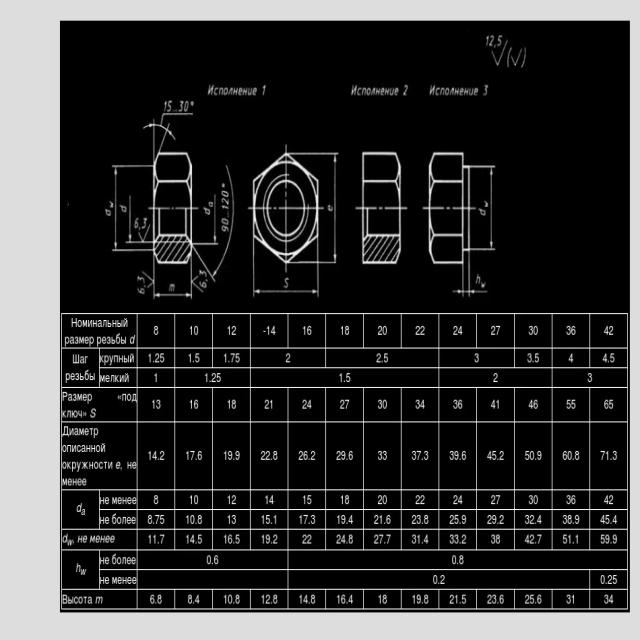marking_line: (193, 165, 235, 283), (111, 164, 153, 252), (319, 152, 340, 264), (253, 264, 320, 299), (471, 165, 495, 252), (152, 265, 193, 300), (125, 195, 153, 245), (194, 194, 218, 246), (452, 265, 489, 298), (144, 117, 176, 152)
numeric: (141, 215, 148, 229), (169, 281, 176, 293), (489, 33, 495, 47), (483, 83, 489, 96), (497, 34, 503, 47), (178, 101, 184, 113), (137, 287, 145, 296), (119, 204, 127, 213), (202, 206, 210, 215), (475, 272, 481, 284), (534, 352, 540, 364), (452, 324, 458, 336), (203, 372, 209, 384), (586, 373, 593, 383), (271, 323, 276, 337), (376, 352, 382, 363), (285, 352, 291, 363), (231, 324, 237, 335), (493, 372, 499, 383), (160, 449, 166, 460), (273, 450, 279, 461), (341, 449, 347, 460), (492, 450, 498, 461), (499, 450, 505, 461), (414, 494, 420, 505), (420, 494, 426, 505), (452, 494, 458, 505), (609, 494, 615, 505), (154, 514, 160, 525), (160, 534, 166, 545), (432, 574, 438, 585), (157, 594, 163, 605), (448, 594, 454, 605), (486, 593, 492, 604), (222, 190, 230, 198), (199, 269, 207, 277), (199, 281, 207, 289), (137, 275, 145, 283), (478, 208, 486, 216), (134, 217, 139, 229), (284, 277, 289, 289), (382, 325, 388, 335), (223, 351, 228, 363), (474, 351, 479, 363), (231, 399, 237, 409), (533, 400, 539, 410), (227, 450, 233, 460), (235, 451, 241, 461), (298, 451, 304, 461), (416, 451, 422, 461), (567, 450, 573, 460), (194, 494, 199, 506), (231, 495, 237, 505), (382, 495, 388, 505), (599, 514, 605, 524), (574, 514, 580, 524), (536, 515, 542, 525), (524, 515, 530, 525), (461, 514, 467, 524), (449, 515, 455, 525), (310, 515, 316, 525), (231, 514, 237, 524), (190, 534, 196, 544), (266, 534, 272, 544), (273, 534, 279, 544), (348, 534, 354, 544), (378, 534, 384, 544), (149, 594, 155, 604), (187, 594, 193, 604), (423, 594, 429, 604), (461, 594, 467, 604), (222, 197, 229, 205), (221, 225, 229, 232), (167, 101, 172, 112), (184, 101, 189, 112), (491, 325, 496, 336), (459, 325, 464, 336), (345, 325, 350, 336), (384, 352, 389, 363), (154, 325, 159, 336), (195, 352, 200, 363), (346, 372, 351, 383), (311, 450, 316, 461), (424, 450, 429, 461), (462, 450, 467, 461), (600, 450, 605, 461), (154, 495, 159, 506), (189, 495, 194, 506), (264, 494, 269, 505), (307, 494, 312, 505), (345, 494, 350, 505), (613, 514, 618, 525), (606, 514, 611, 525), (567, 514, 572, 525), (530, 514, 535, 525), (499, 514, 504, 525), (190, 514, 195, 525), (214, 554, 219, 565), (562, 533, 567, 544), (440, 574, 445, 585), (303, 594, 308, 605), (485, 35, 490, 46), (105, 208, 111, 217), (420, 326, 426, 335), (154, 353, 160, 362), (383, 400, 389, 409), (608, 399, 614, 408), (348, 451, 354, 460), (533, 495, 539, 504), (448, 534, 454, 543), (461, 535, 467, 544), (459, 556, 465, 565), (273, 595, 279, 604), (609, 325, 614, 335), (566, 326, 571, 336), (569, 352, 574, 362), (602, 353, 607, 363), (527, 353, 532, 363), (496, 326, 501, 336), (415, 326, 420, 336), (230, 353, 235, 363), (236, 353, 241, 363), (156, 400, 161, 410), (194, 399, 199, 409), (264, 399, 269, 409), (302, 399, 307, 409), (307, 399, 312, 409), (340, 399, 345, 409), (378, 399, 383, 409), (415, 399, 420, 409), (421, 399, 426, 409), (453, 399, 458, 409), (458, 399, 463, 409), (491, 399, 496, 409), (566, 399, 571, 409), (571, 400, 576, 410), (152, 451, 157, 461), (190, 450, 195, 460), (223, 451, 228, 461), (266, 450, 271, 460), (377, 450, 382, 460), (455, 450, 460, 460), (537, 450, 542, 460), (530, 450, 535, 460), (575, 451, 580, 461), (458, 495, 463, 505), (491, 495, 496, 505), (496, 495, 501, 505), (528, 495, 533, 505), (571, 495, 576, 505), (424, 514, 429, 524), (416, 514, 421, 524), (386, 514, 391, 524), (374, 514, 379, 524), (273, 514, 278, 524), (198, 515, 203, 525), (160, 514, 165, 524), (148, 514, 153, 524), (235, 534, 240, 544), (307, 534, 312, 544), (336, 534, 341, 544), (341, 534, 346, 544), (386, 534, 391, 544), (424, 534, 429, 544), (412, 534, 417, 544), (490, 534, 495, 544), (537, 534, 542, 544), (529, 534, 534, 544), (612, 534, 617, 544), (605, 534, 610, 544), (451, 555, 456, 565), (195, 594, 200, 604), (235, 594, 240, 604), (311, 594, 316, 604), (341, 594, 346, 604), (348, 594, 353, 604), (382, 594, 387, 604), (416, 594, 421, 604), (499, 594, 504, 604), (492, 594, 497, 604), (524, 594, 529, 604), (530, 594, 535, 604), (566, 594, 571, 604), (604, 594, 609, 604), (607, 575, 612, 585), (612, 574, 617, 584), (600, 574, 605, 584), (221, 219, 229, 225), (327, 205, 333, 213), (194, 325, 198, 337), (344, 400, 350, 408), (148, 449, 152, 461), (404, 84, 408, 96), (220, 205, 229, 210), (378, 326, 383, 335), (160, 353, 165, 362), (211, 373, 216, 382), (197, 451, 202, 460), (383, 451, 388, 460), (525, 451, 530, 460), (566, 495, 571, 504), (603, 495, 608, 504), (563, 515, 568, 524), (487, 516, 492, 525), (349, 515, 354, 524), (374, 535, 379, 544), (266, 594, 271, 603), (609, 595, 614, 604), (164, 101, 168, 112), (262, 85, 266, 96), (571, 325, 575, 336), (227, 325, 231, 336), (217, 372, 221, 383), (154, 372, 158, 383), (186, 450, 190, 461), (304, 449, 308, 460), (412, 450, 416, 461), (487, 450, 491, 461), (563, 450, 567, 461), (606, 451, 610, 462), (227, 495, 231, 506), (270, 494, 274, 505), (261, 514, 265, 525), (227, 514, 231, 525), (148, 534, 152, 545), (525, 534, 529, 545), (568, 534, 572, 545), (480, 282, 487, 288), (109, 201, 114, 209), (484, 200, 489, 208), (604, 326, 609, 334), (611, 352, 615, 362), (529, 325, 533, 335), (308, 325, 312, 335), (189, 325, 193, 335), (148, 354, 152, 364), (339, 373, 343, 383), (496, 399, 500, 409), (529, 400, 533, 410), (604, 399, 608, 409), (261, 450, 265, 460), (337, 451, 341, 461), (450, 450, 454, 460), (613, 451, 617, 461), (493, 514, 497, 524), (341, 515, 345, 525), (299, 514, 303, 524), (266, 515, 270, 525), (186, 534, 190, 544), (198, 534, 202, 544), (223, 535, 227, 545), (261, 534, 265, 544), (303, 534, 307, 544), (454, 535, 459, 543), (496, 534, 500, 544), (575, 535, 579, 545), (601, 534, 605, 544), (223, 595, 227, 605), (378, 594, 382, 604), (537, 594, 541, 604), (571, 594, 575, 604), (534, 326, 538, 335), (190, 398, 193, 410), (378, 495, 382, 504), (412, 515, 416, 524), (304, 515, 308, 524), (228, 534, 232, 543), (207, 555, 211, 564), (228, 595, 232, 604), (261, 595, 265, 604), (299, 595, 303, 604), (454, 595, 458, 604), (189, 353, 192, 364), (152, 398, 155, 409), (380, 514, 383, 525), (153, 534, 156, 545), (455, 515, 459, 523), (208, 201, 213, 207), (341, 325, 344, 335), (303, 326, 306, 336), (267, 326, 270, 336), (228, 399, 231, 409), (270, 399, 273, 409), (341, 495, 344, 505), (186, 515, 189, 525), (417, 534, 420, 544), (412, 595, 415, 605), (303, 495, 306, 504), (337, 515, 340, 524), (337, 595, 340, 604)
special_symbol: (490, 40, 509, 66), (192, 274, 204, 294), (138, 223, 151, 241), (511, 47, 522, 68), (142, 271, 153, 288), (506, 46, 512, 68), (521, 48, 527, 68), (190, 100, 194, 107), (222, 182, 226, 188), (206, 279, 209, 283), (573, 521, 576, 525), (384, 541, 387, 545), (421, 542, 424, 546), (456, 560, 458, 566), (459, 542, 462, 545), (421, 521, 423, 524), (384, 521, 386, 524), (573, 541, 575, 544), (605, 582, 607, 585)
